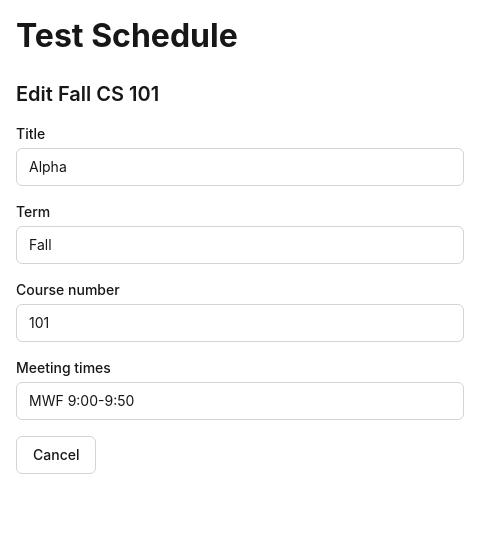
it: Edit course validation › shows and clears a course number error as the user edits
Expected: the heading "Test Schedule" is shown, [16,16,238,55]
Replace the text in the field labelled "Course number" with "abc" at (240, 322), box [16,304,464,342]
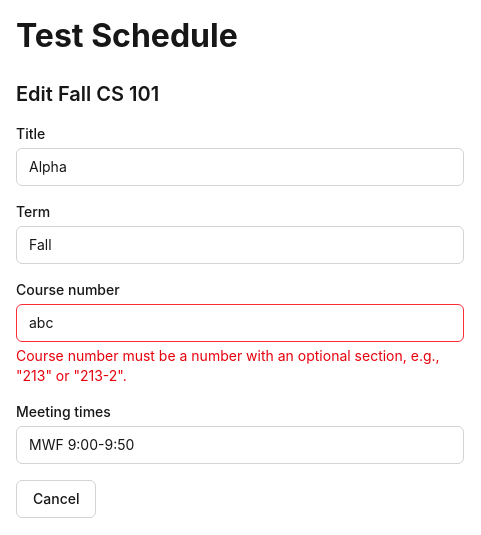
Now the text "optional section" is shown, box [16,346,440,384]
Replace the text in the field labelled "Course number" with "213-2" at (240, 322), box [16,304,464,342]
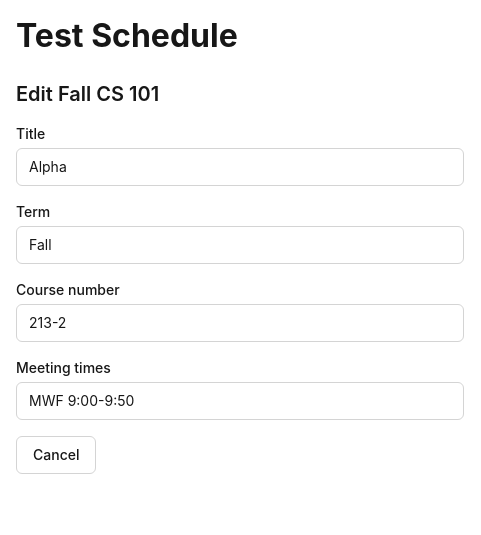
Now the text "optional section" is gone
